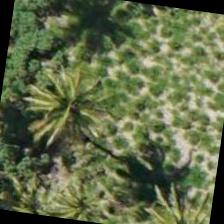Kelapa_Sawit: (22, 54, 124, 156), (36, 157, 134, 223), (132, 177, 215, 223)
